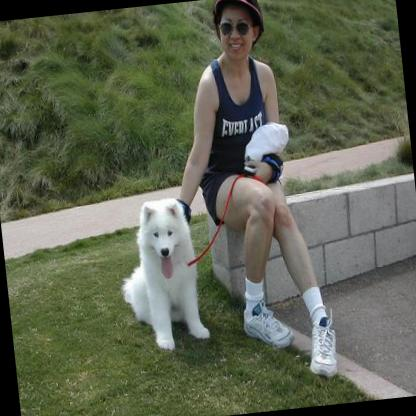Samoyed: (112, 194, 211, 353)
